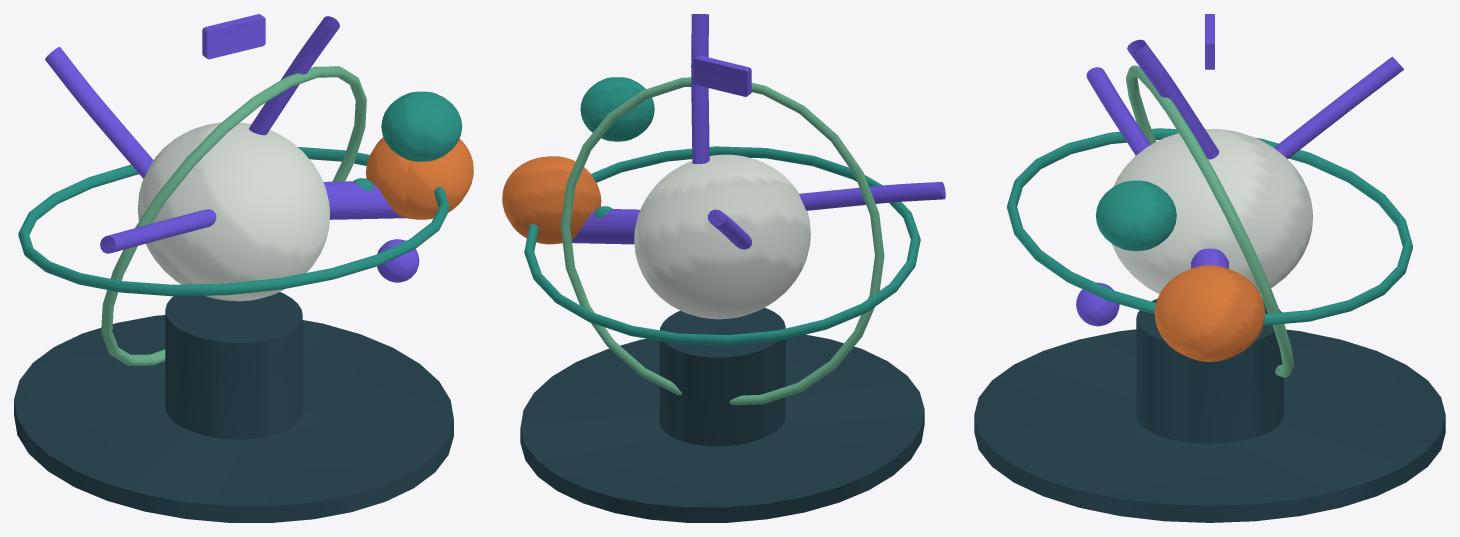
The model's file is 0508_生活中的化学图鉴_水.glb.
3 views of the same model, side by side, from view 1: azimuth 30°, elevation 25°; view 2: azimuth 150°, elevation 25°; view 3: azimuth 270°, elevation 25° (orthographic). The views are drawn at different scales.
Parts seen in each view (by area): view 1: card_0508; view 2: card_0508; view 3: card_0508.
Boxes of the visible parts, x1,y1,x2,y2 form: card_0508: [14, 14, 473, 522]; card_0508: [502, 14, 945, 522]; card_0508: [974, 14, 1445, 522].
Bounding box in the file's own units: 1.06 × 1 × 1.02.
